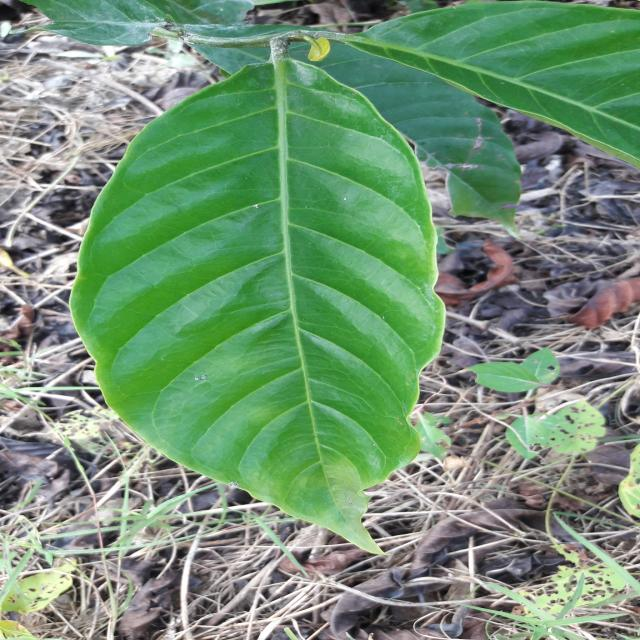Sanas: (71, 54, 447, 553)
